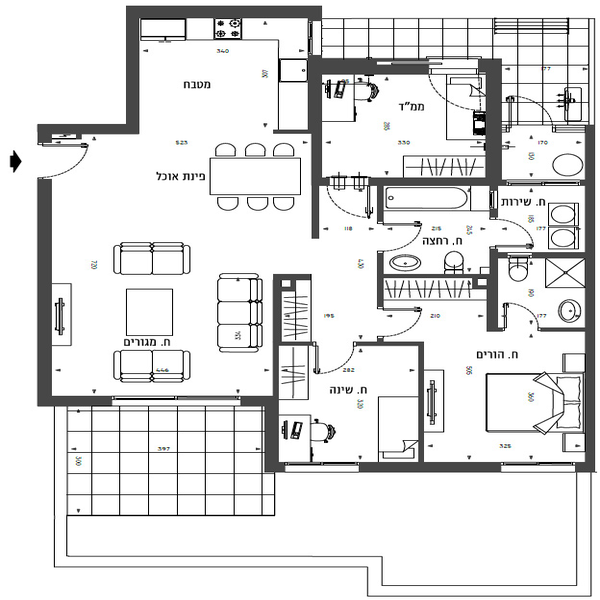room: (35, 124, 281, 407), (274, 275, 426, 473), (308, 54, 502, 187), (127, 6, 324, 131), (491, 248, 595, 469)
